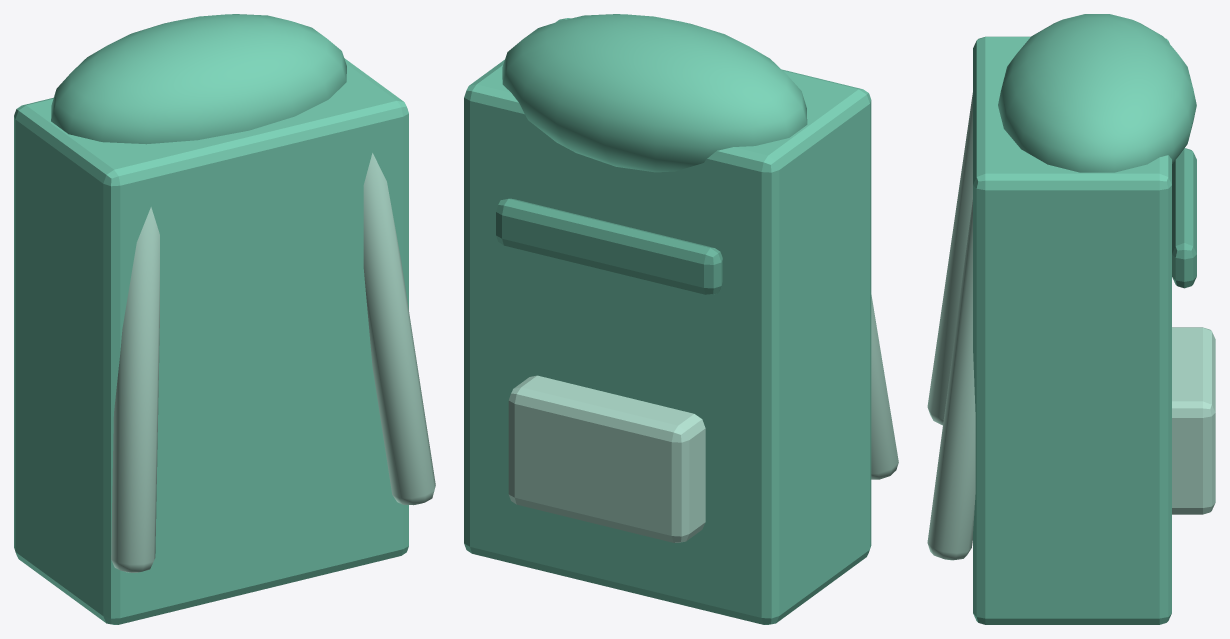
Rendered from VM-ACC-EXT175.glb.
3 renders of one model, left to right at view 1: azimuth 30°, elevation 25°; view 2: azimuth 150°, elevation 25°; view 3: azimuth 270°, elevation 25°, orthographic. The views are drawn at different scales.
Visible parts, largest first — view 1: Mochila de Cuero Sintético Blanca; view 2: Mochila de Cuero Sintético Blanca; view 3: Mochila de Cuero Sintético Blanca.
Boxes of the visible parts, box(x1,y1,x2,y2) form: Mochila de Cuero Sintético Blanca: box(14, 14, 435, 624); Mochila de Cuero Sintético Blanca: box(464, 14, 898, 624); Mochila de Cuero Sintético Blanca: box(927, 14, 1215, 624).
Size of the model in its own units: 0.2777 by 0.4322 by 0.22.
